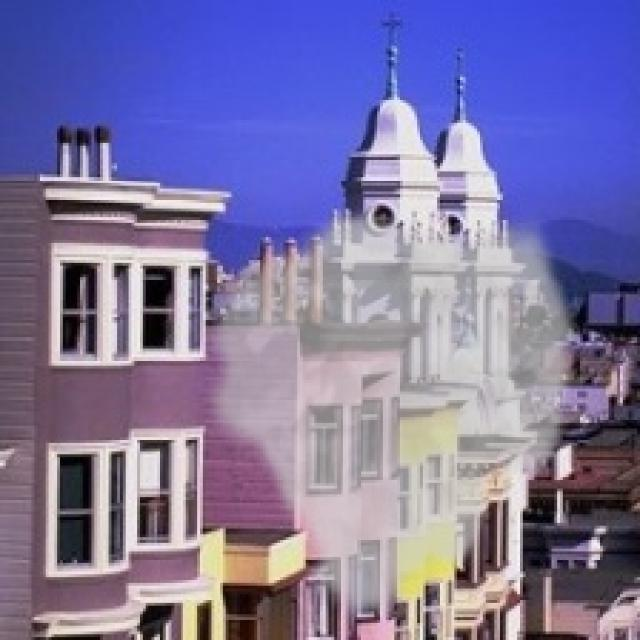smoke: (197, 205, 583, 626)
